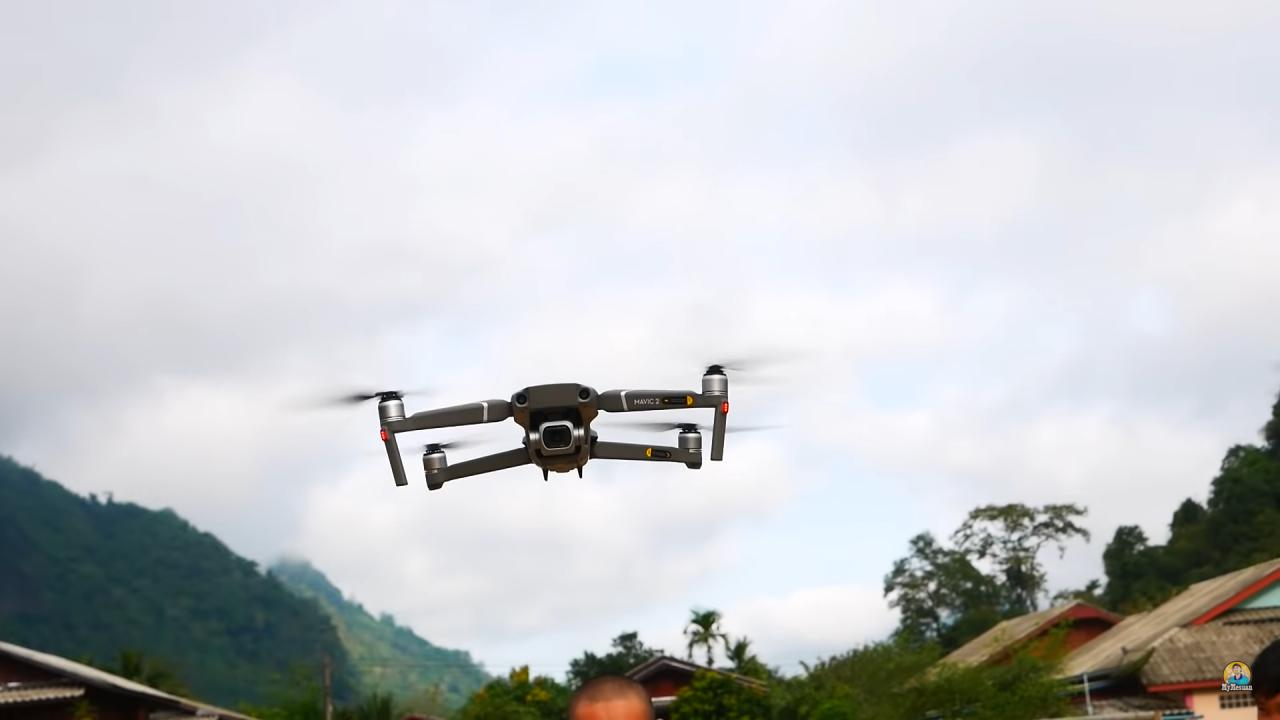Drone: (300, 330, 806, 507)
